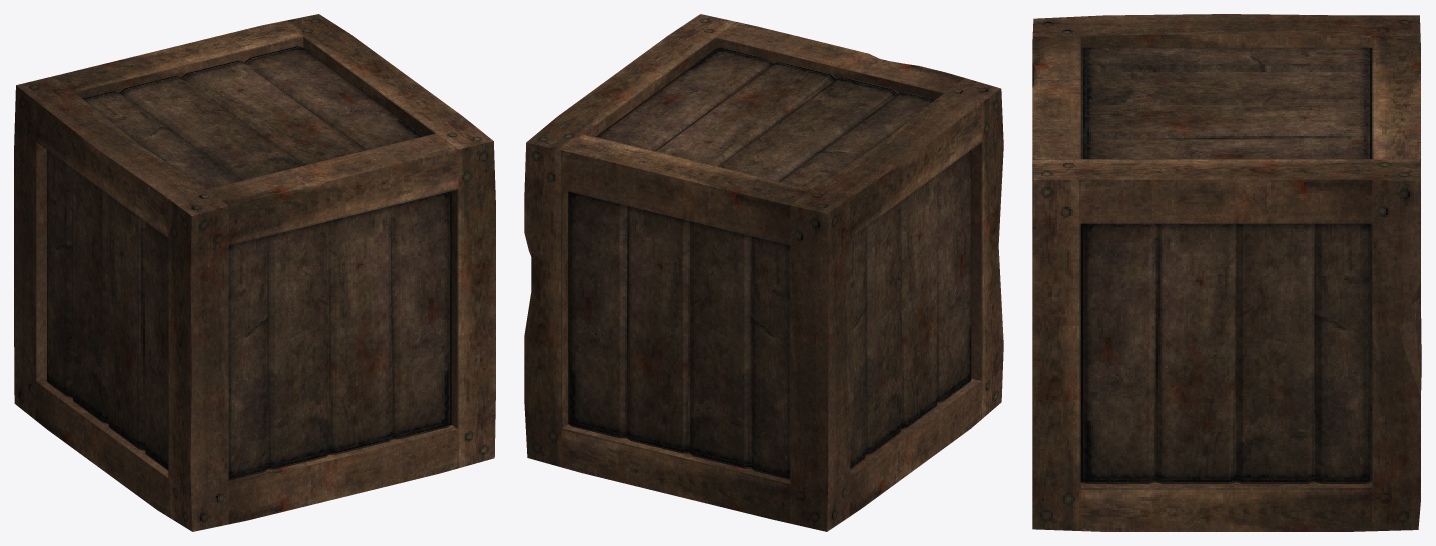
Rendered from wooden_crate_4.glb.
The picture shows the model from 3 angles, left to right: view 1: azimuth 30°, elevation 25°; view 2: azimuth 150°, elevation 25°; view 3: azimuth 270°, elevation 25°; orthographic projection. The views are drawn at different scales.
Visible parts, largest first — view 1: wooden_crate_4; view 2: wooden_crate_4; view 3: wooden_crate_4.
Part boxes in pixels (x1,y1,x2,y2): wooden_crate_4: (14, 14, 495, 531); wooden_crate_4: (524, 14, 1003, 531); wooden_crate_4: (1032, 14, 1421, 531).
Bounding box in the file's own units: 1.09 × 1.08 × 1.08.
1 material, 1 textured.
